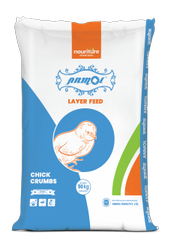feed_bag: (10, 13, 162, 238)
